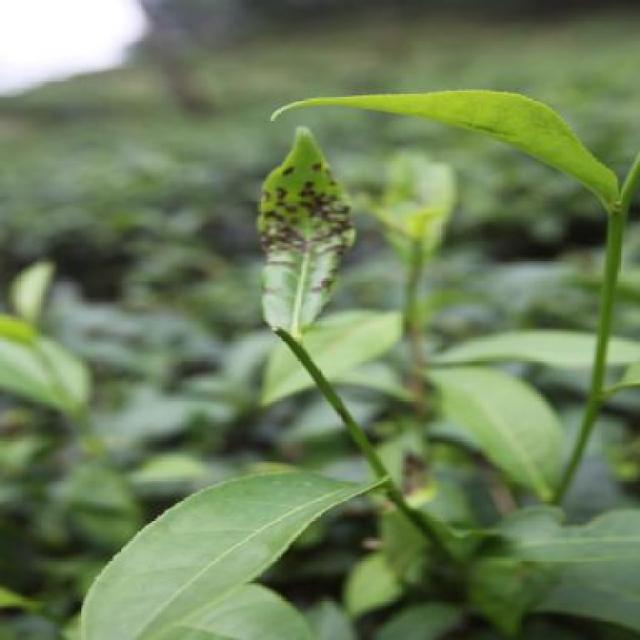Tea Mosquito bug infested leaf: (250, 118, 376, 334)
